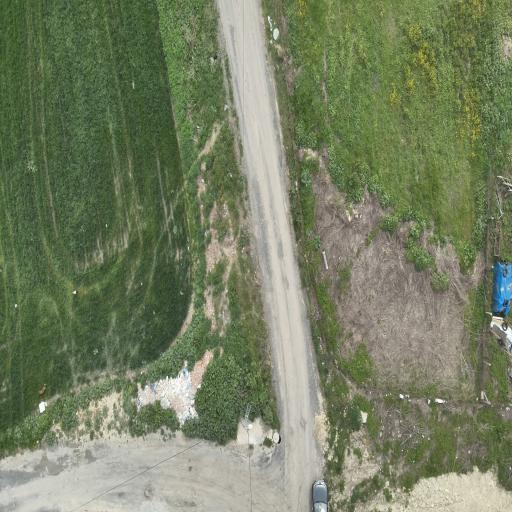car: (312, 481, 328, 511)
